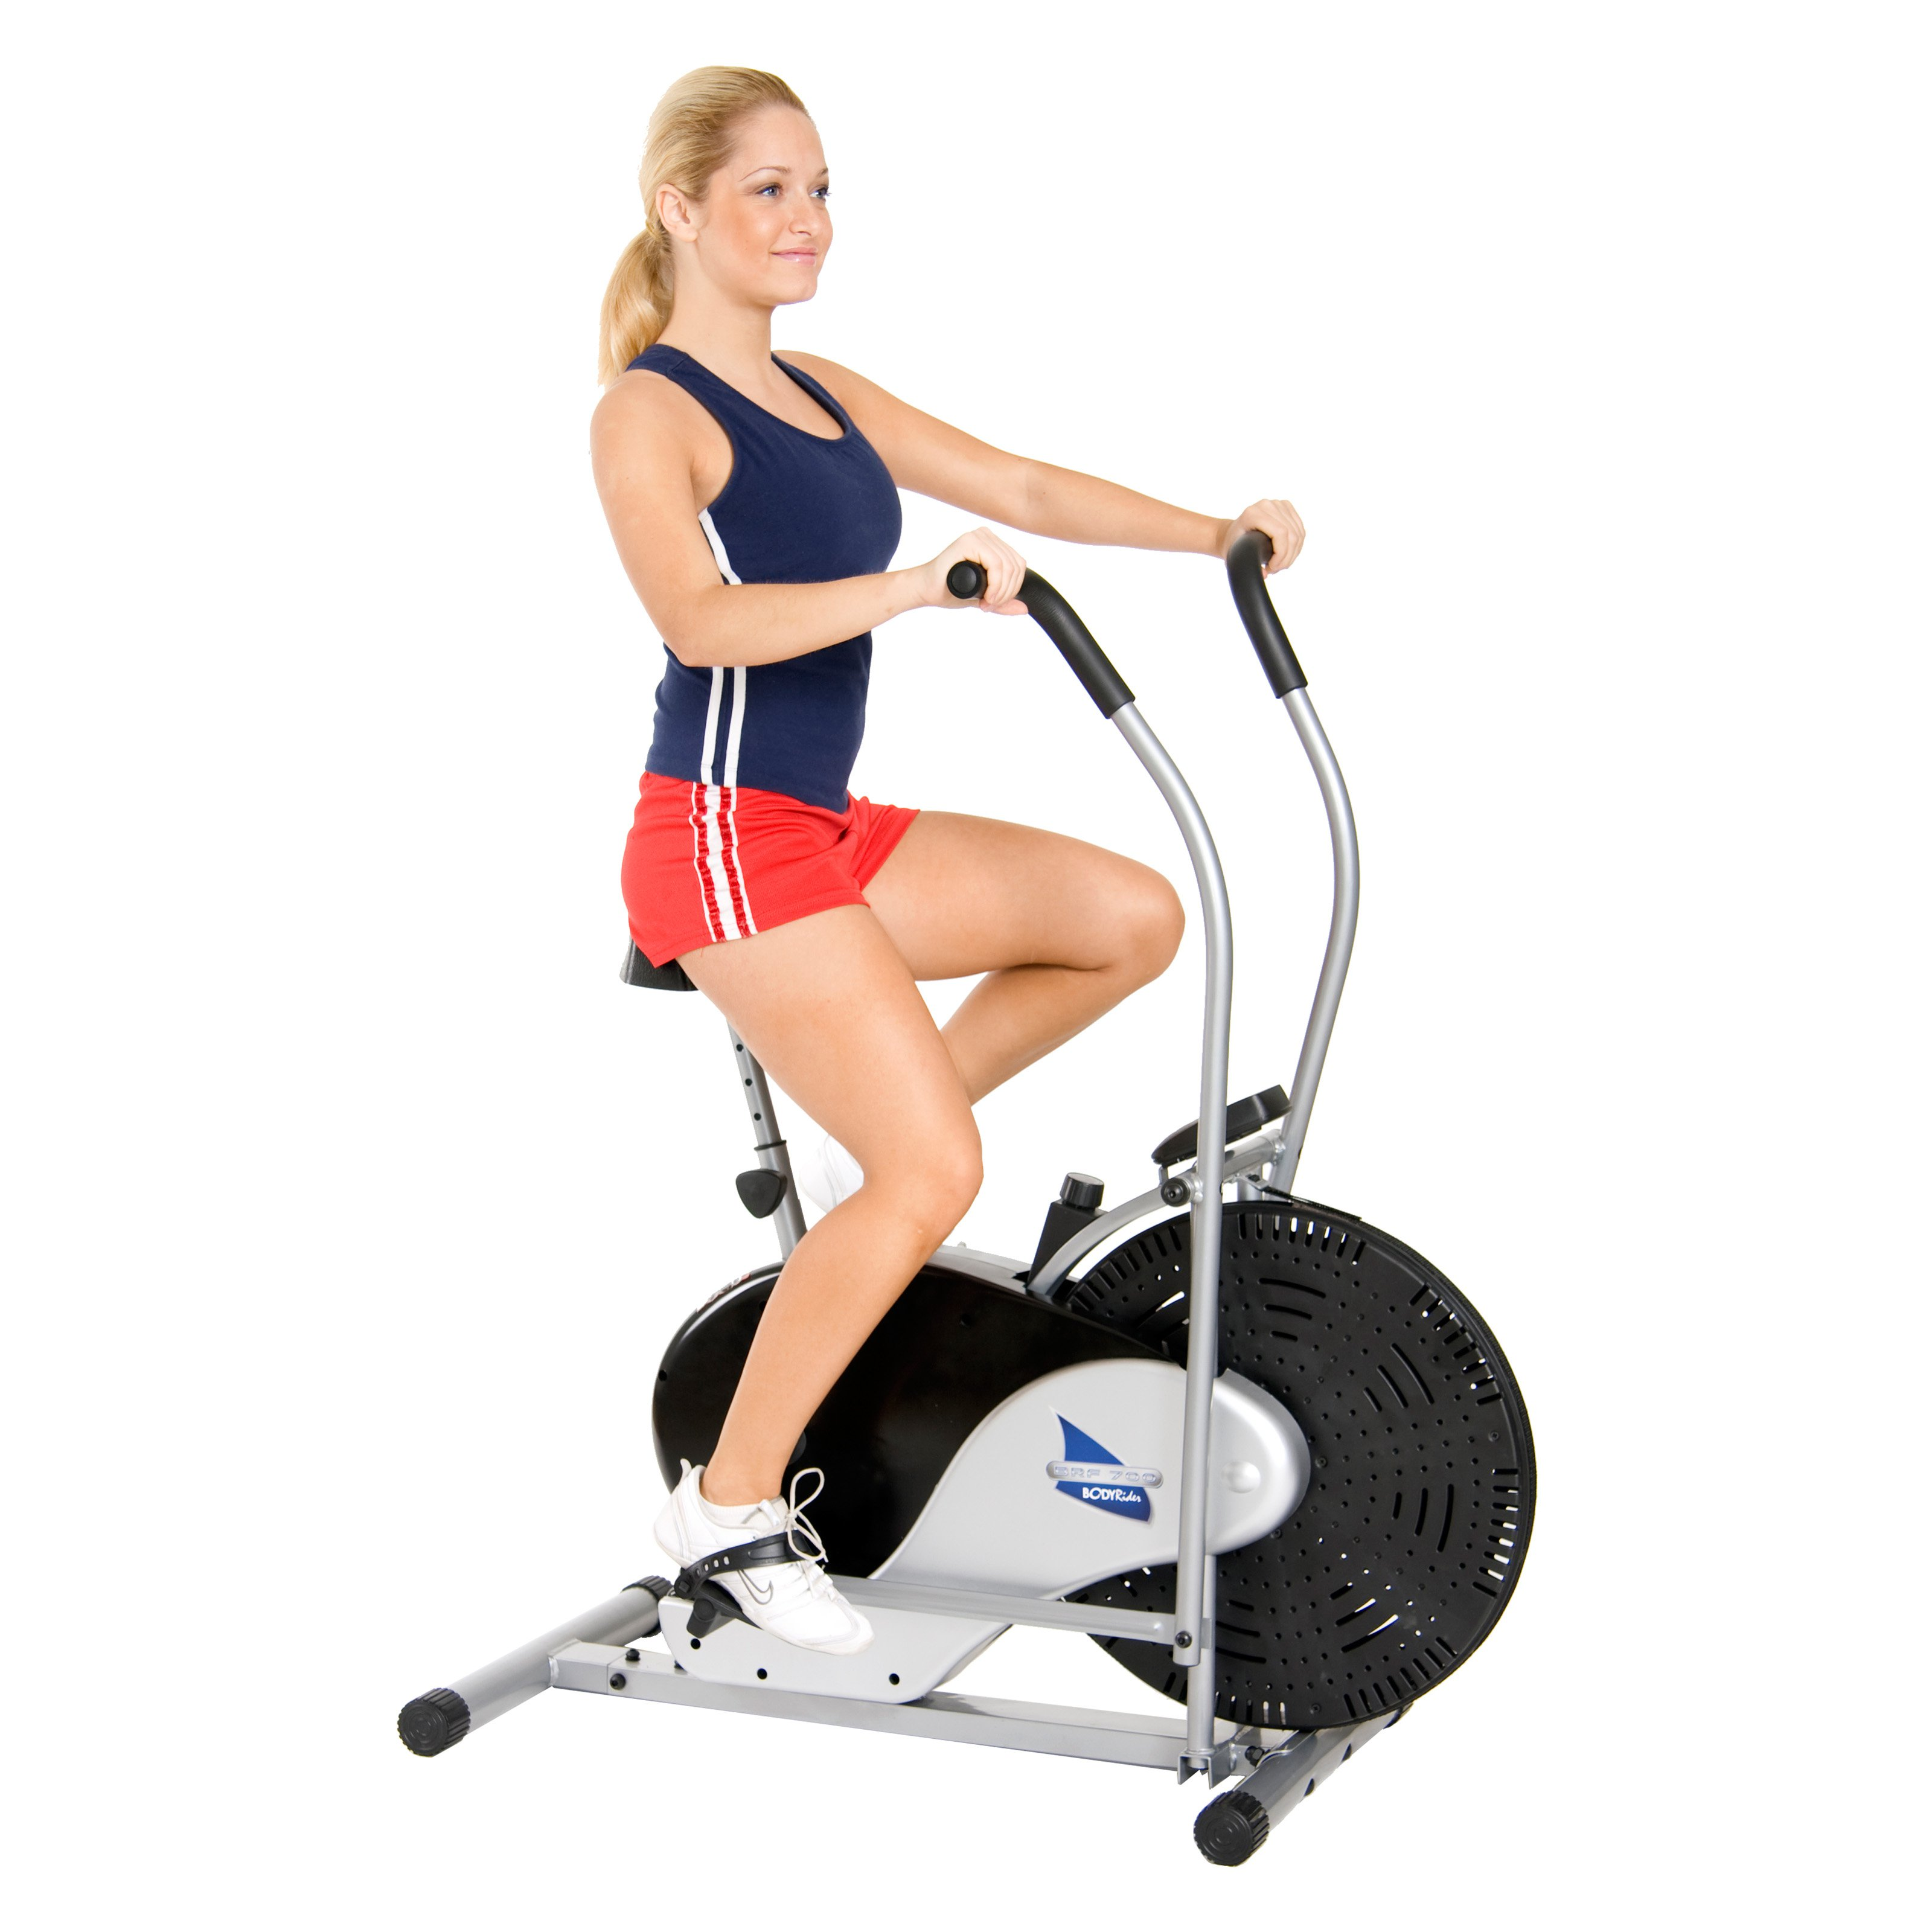gym_bike: (409, 495, 1529, 1868)
